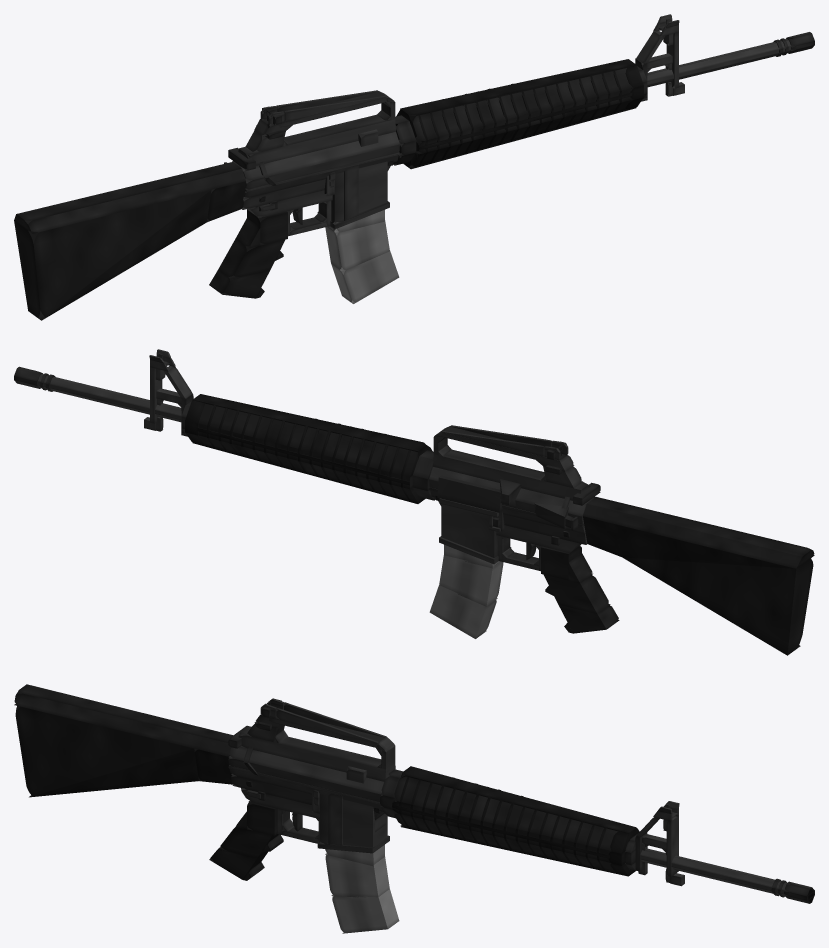
The picture shows the model from 3 angles, top to bottom: view 1: azimuth 30°, elevation 25°; view 2: azimuth 150°, elevation 25°; view 3: azimuth 330°, elevation 25°; orthographic projection.
Parts seen in each view (by area): view 1: gunModel0, gunModel1, gunModel97, gunModel20, gunModel204, ammoModel1, gunModel2, ammoModel2, gunModel7, gunModel98, gunModel96, gunModel10 (+14 smaller); view 2: gunModel0, gunModel1, gunModel97, gunModel20, gunModel204, ammoModel1, gunModel7, ammoModel2, gunModel98, gunModel96, gunModel10, gunModel39 (+13 smaller); view 3: gunModel0, gunModel1, gunModel97, gunModel20, gunModel204, ammoModel1, ammoModel2, gunModel7, gunModel2, gunModel98, gunModel96, gunModel3 (+18 smaller).
Part boxes in pixels (<box>): gunModel0: <box>14,190,211,320</box>; gunModel1: <box>14,162,245,233</box>; gunModel97: <box>395,68,633,142</box>; gunModel20: <box>238,114,395,165</box>; gunModel204: <box>400,59,635,124</box>; ammoModel1: <box>325,220,389,271</box>; gunModel2: <box>232,132,399,181</box>; ammoModel2: <box>331,251,399,303</box>; gunModel7: <box>326,161,387,224</box>; gunModel98: <box>409,100,633,167</box>; gunModel96: <box>415,88,633,154</box>; gunModel10: <box>218,239,284,279</box>; gunModel0: <box>617,524,813,655</box>; gunModel1: <box>583,497,814,568</box>; gunModel97: <box>198,403,432,477</box>; gunModel20: <box>433,449,590,500</box>; gunModel204: <box>193,394,428,459</box>; ammoModel1: <box>439,555,503,606</box>; gunModel7: <box>441,504,497,557</box>; ammoModel2: <box>429,585,496,638</box>; gunModel98: <box>198,435,417,502</box>; gunModel96: <box>198,423,412,489</box>; gunModel10: <box>544,574,610,613</box>; gunModel39: <box>437,475,502,512</box>; gunModel0: <box>15,706,199,797</box>; gunModel1: <box>14,684,232,756</box>; gunModel97: <box>393,773,618,850</box>; gunModel20: <box>238,727,395,781</box>; gunModel204: <box>401,766,636,833</box>; ammoModel1: <box>325,854,389,897</box>; ammoModel2: <box>332,889,399,933</box>; gunModel7: <box>320,794,387,847</box>; gunModel2: <box>228,745,383,794</box>; gunModel98: <box>394,812,616,872</box>; gunModel96: <box>392,800,611,862</box>; gunModel3: <box>228,757,382,801</box>.
Bounding box in the file's own units: 34.28 × 8.66 × 2.23.
